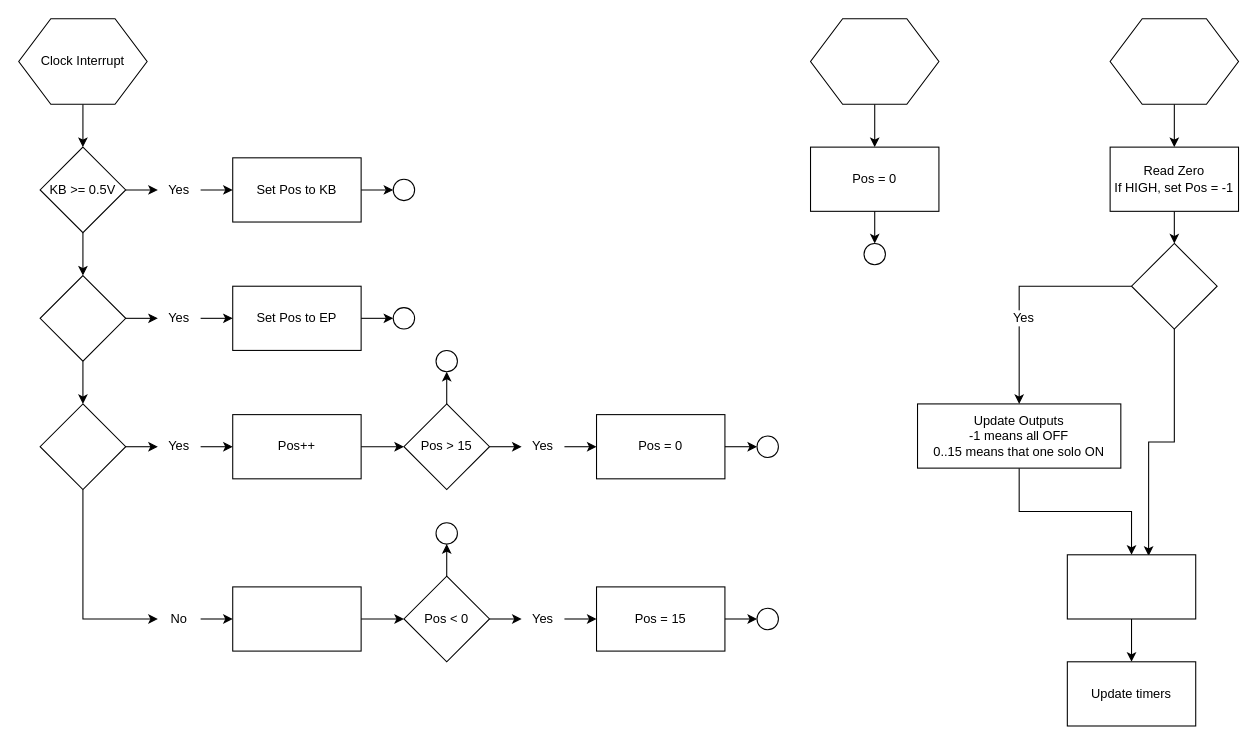
This 1257x745 diagram has some shape labels left out. Here are the shapes that lost their labels. From the top down, the box of each, then its label:
(809, 18, 939, 104): Reset Interrupt
(1109, 18, 1239, 104): Loop
(1130, 242, 1217, 329): Pos has changed
(39, 274, 126, 361): EP >= 0.5V
(39, 403, 126, 490): Dir == 1
(1066, 554, 1196, 619): Read all other inputs
(232, 586, 361, 651): Pos--
